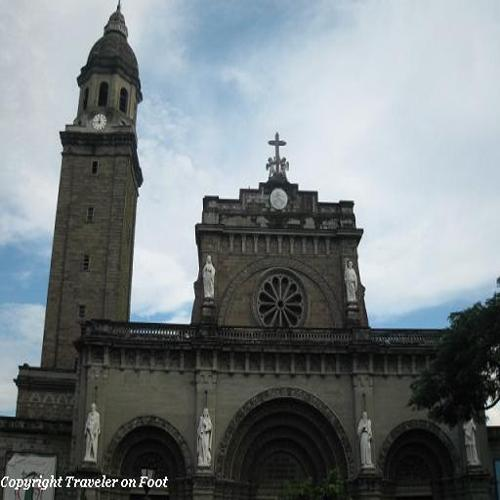Manila Cathedral Church: (8, 4, 494, 497)
